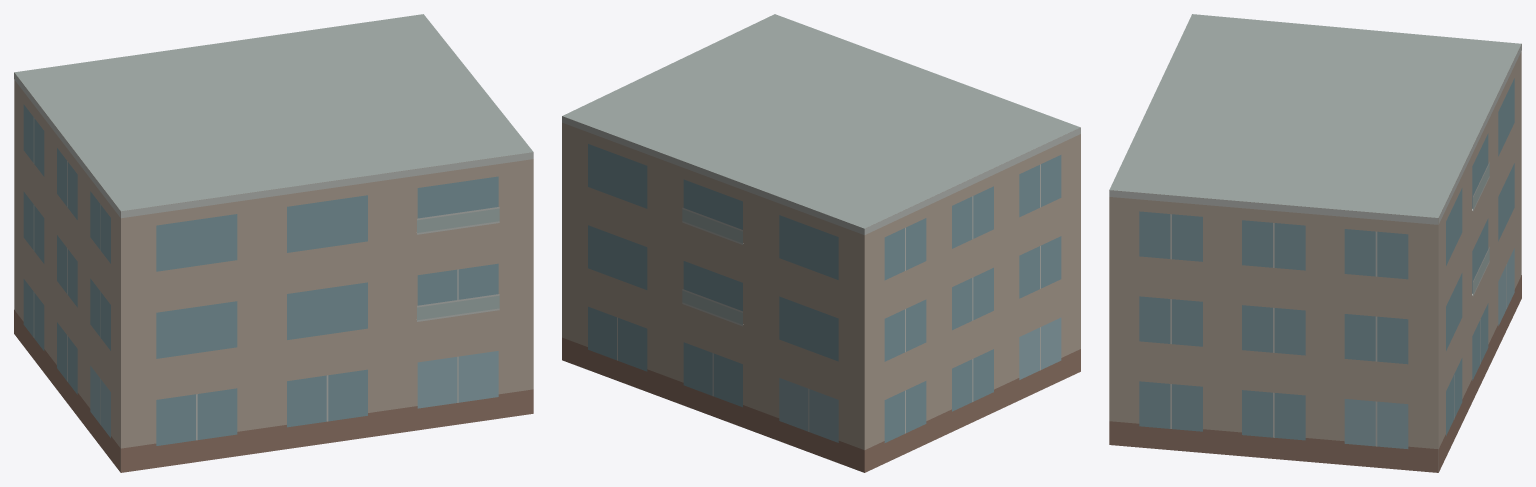
Rendered from survey-upis-32916668.glb.
The picture shows the model from 3 angles, left to right: view 1: azimuth 30°, elevation 25°; view 2: azimuth 150°, elevation 25°; view 3: azimuth 270°, elevation 25°; orthographic projection. The views are drawn at different scales.
Parts seen in each view (by area): view 1: survey-upis-32916668.tmp; view 2: survey-upis-32916668.tmp; view 3: survey-upis-32916668.tmp.
Part boxes in pixels (<box>): survey-upis-32916668.tmp: <box>14,14,533,472</box>; survey-upis-32916668.tmp: <box>562,14,1080,472</box>; survey-upis-32916668.tmp: <box>1109,14,1521,472</box>.
Bounding box in the file's own units: 15.72 × 9.15 × 13.43.
